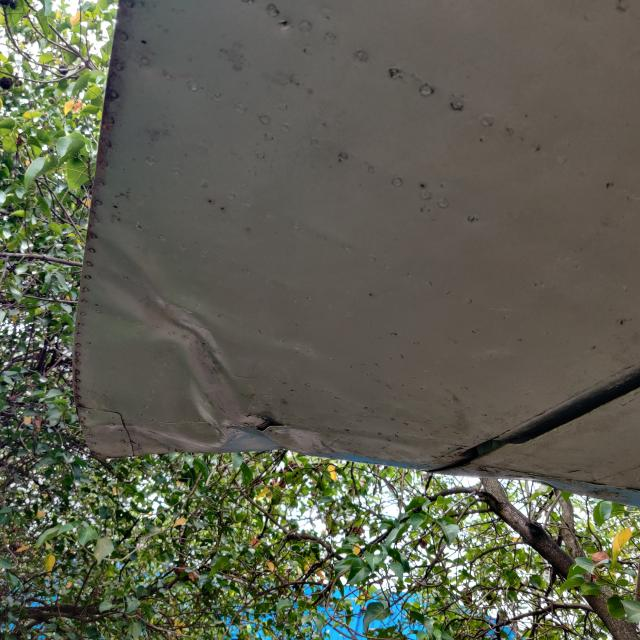crack: (236, 405, 270, 428)
dent: (68, 220, 254, 420), (70, 388, 221, 481)
